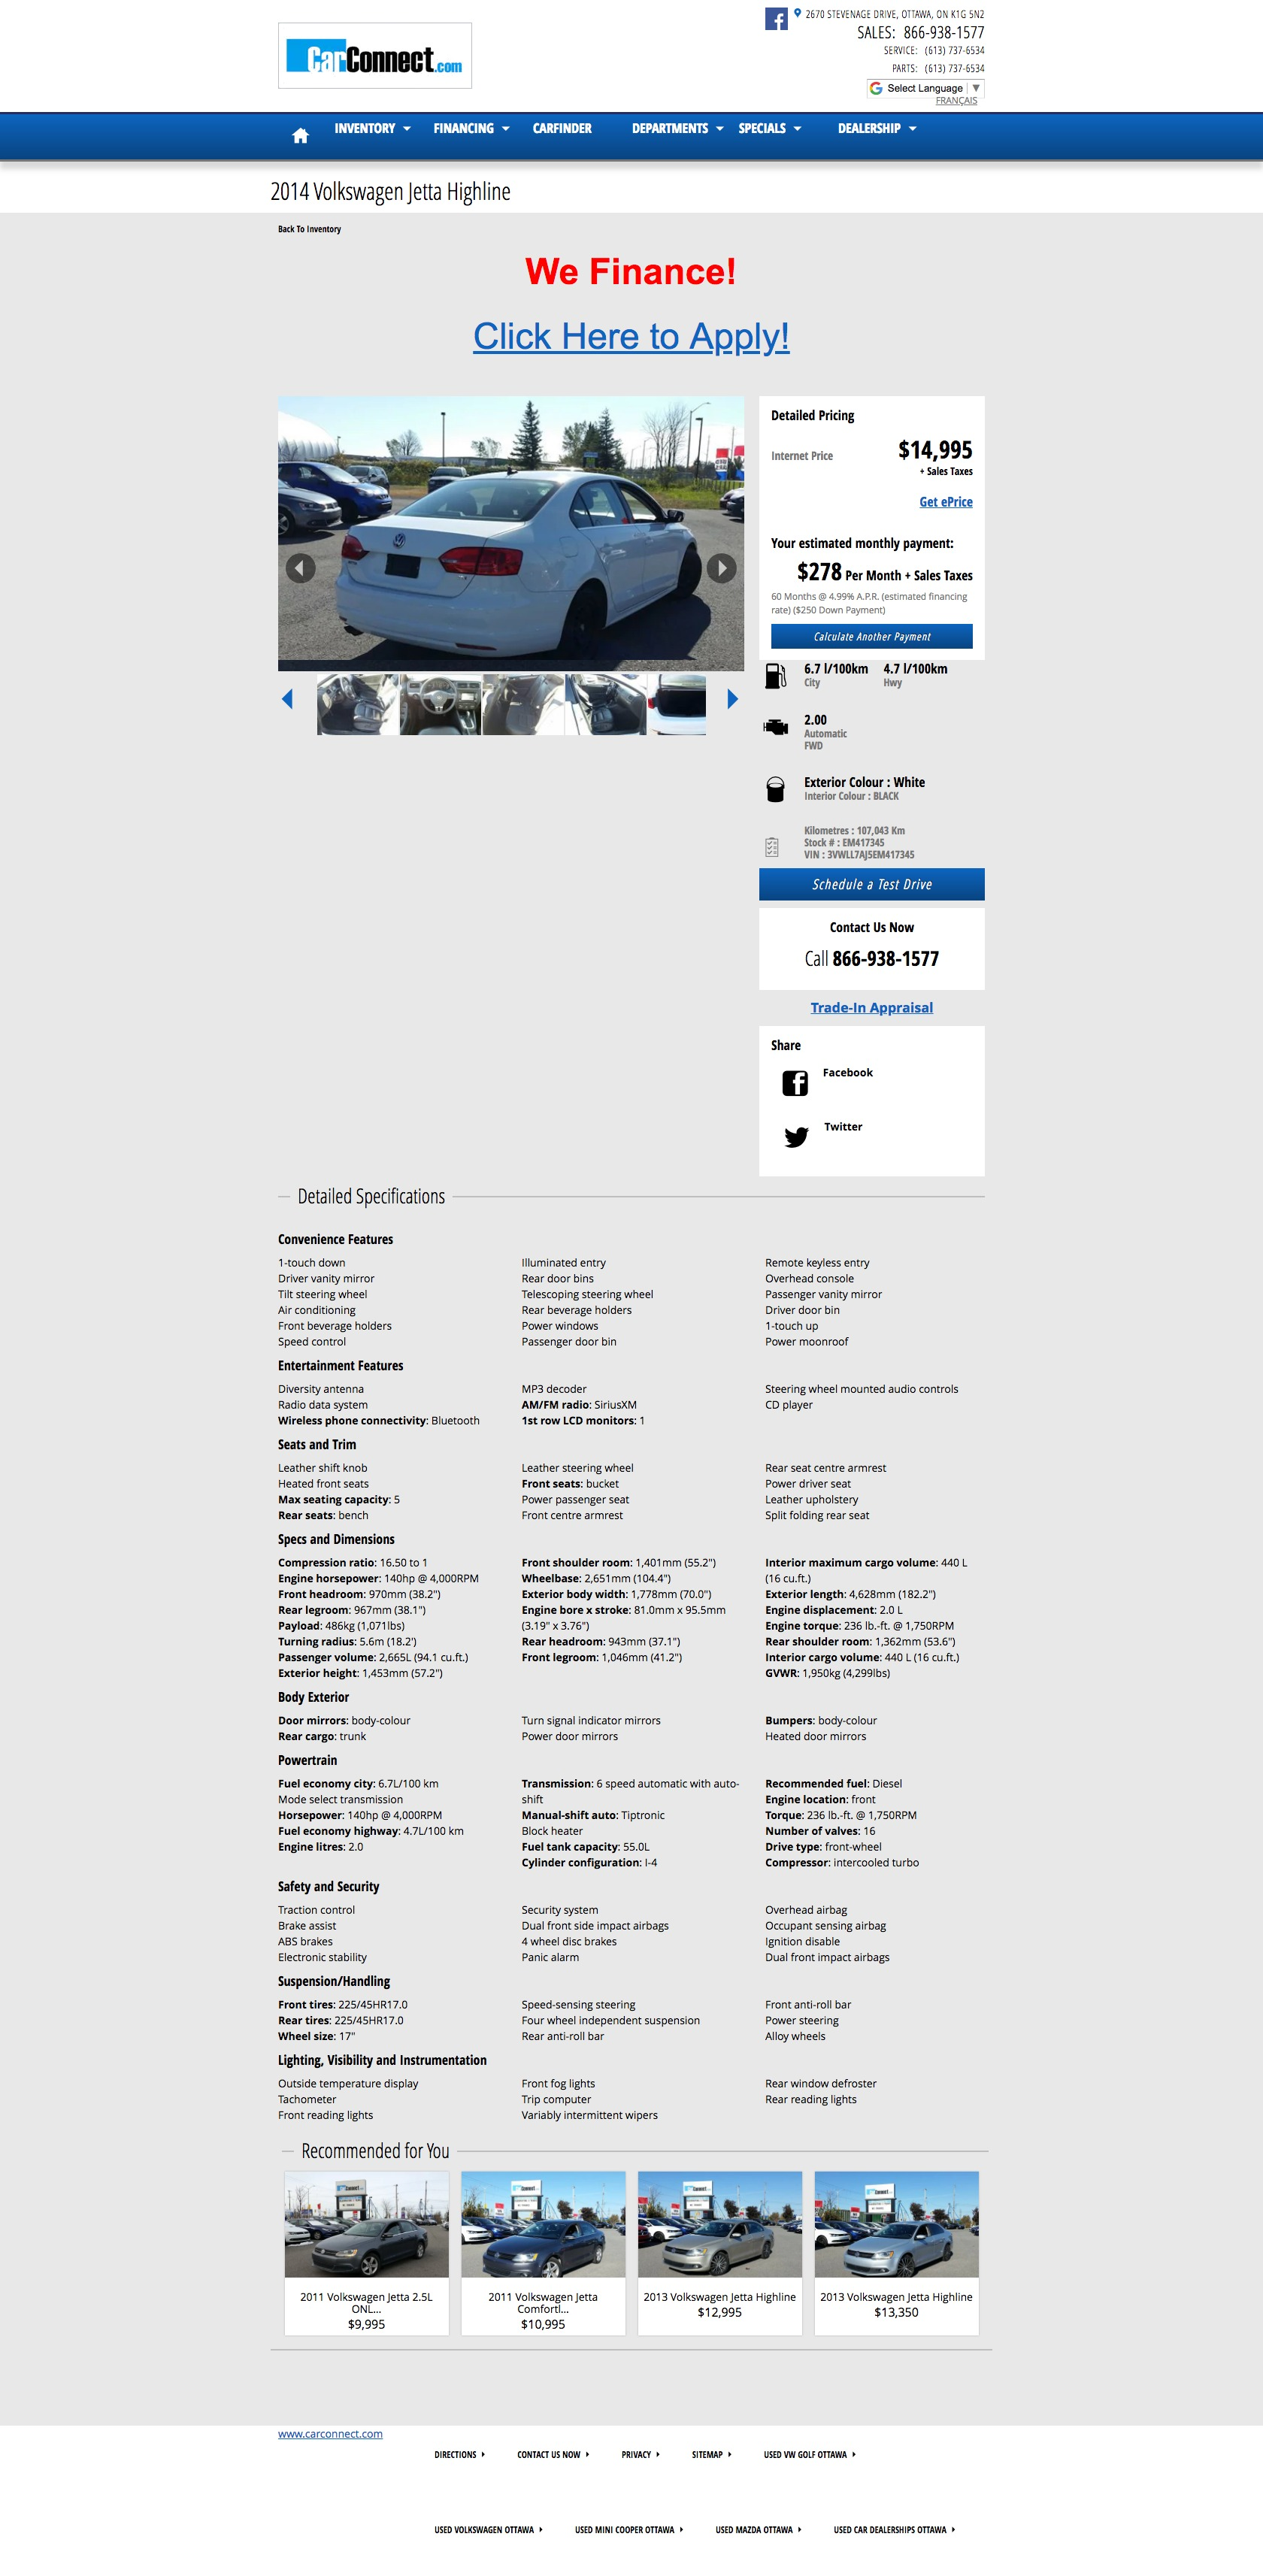car: (724, 688, 742, 711)
